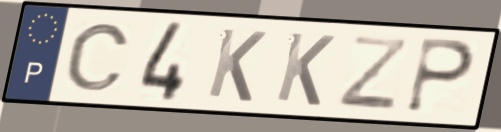4: (137, 18, 187, 105)
C: (63, 21, 134, 94)
K: (203, 25, 270, 106), (272, 29, 338, 110)
P: (402, 35, 479, 116)
Z: (334, 33, 412, 114)
